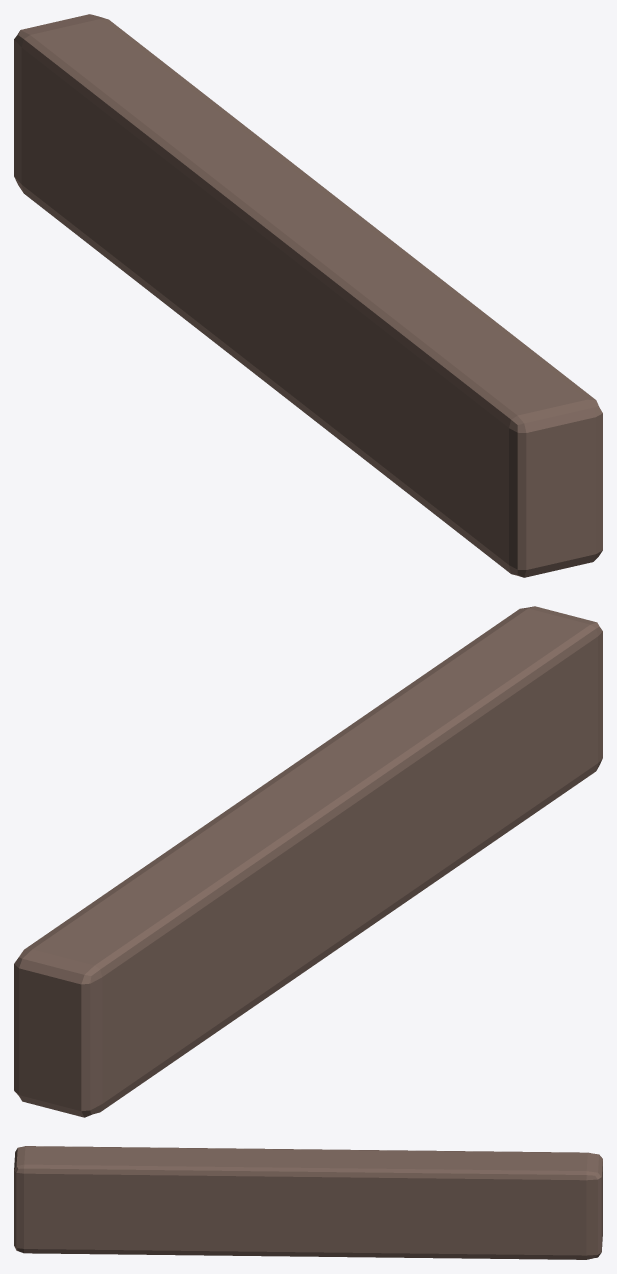
File: Breakaway.fbx
The picture shows the model from 3 angles, top to bottom: view 1: azimuth 30°, elevation 25°; view 2: azimuth 150°, elevation 25°; view 3: azimuth 270°, elevation 25°; orthographic projection. The views are drawn at different scales.
Parts seen in each view (by area): view 1: Cube.043; view 2: Cube.043; view 3: Cube.043.
Part boxes in pixels (left/top/right/bottom): Cube.043: left=14, top=14, right=602, bottom=577; Cube.043: left=14, top=606, right=602, bottom=1117; Cube.043: left=14, top=1146, right=602, bottom=1259.
Size of the model in its own units: 95.33 by 129 by 780.
